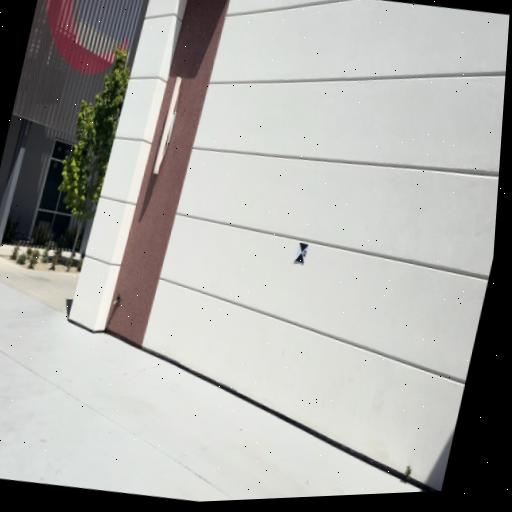target0: (293, 241, 309, 264)
